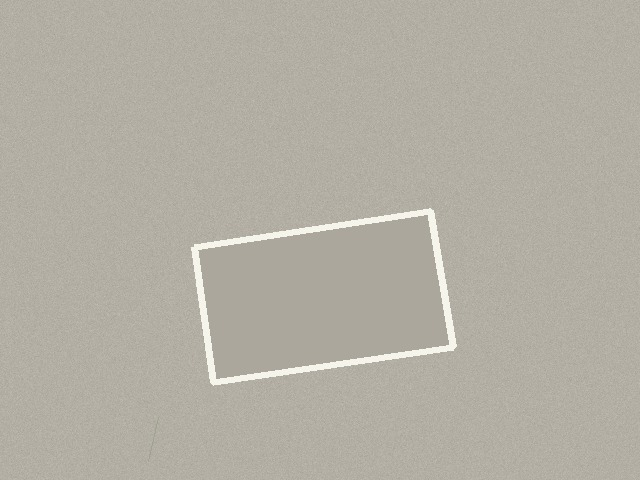parking_area: (194, 211, 453, 382)
